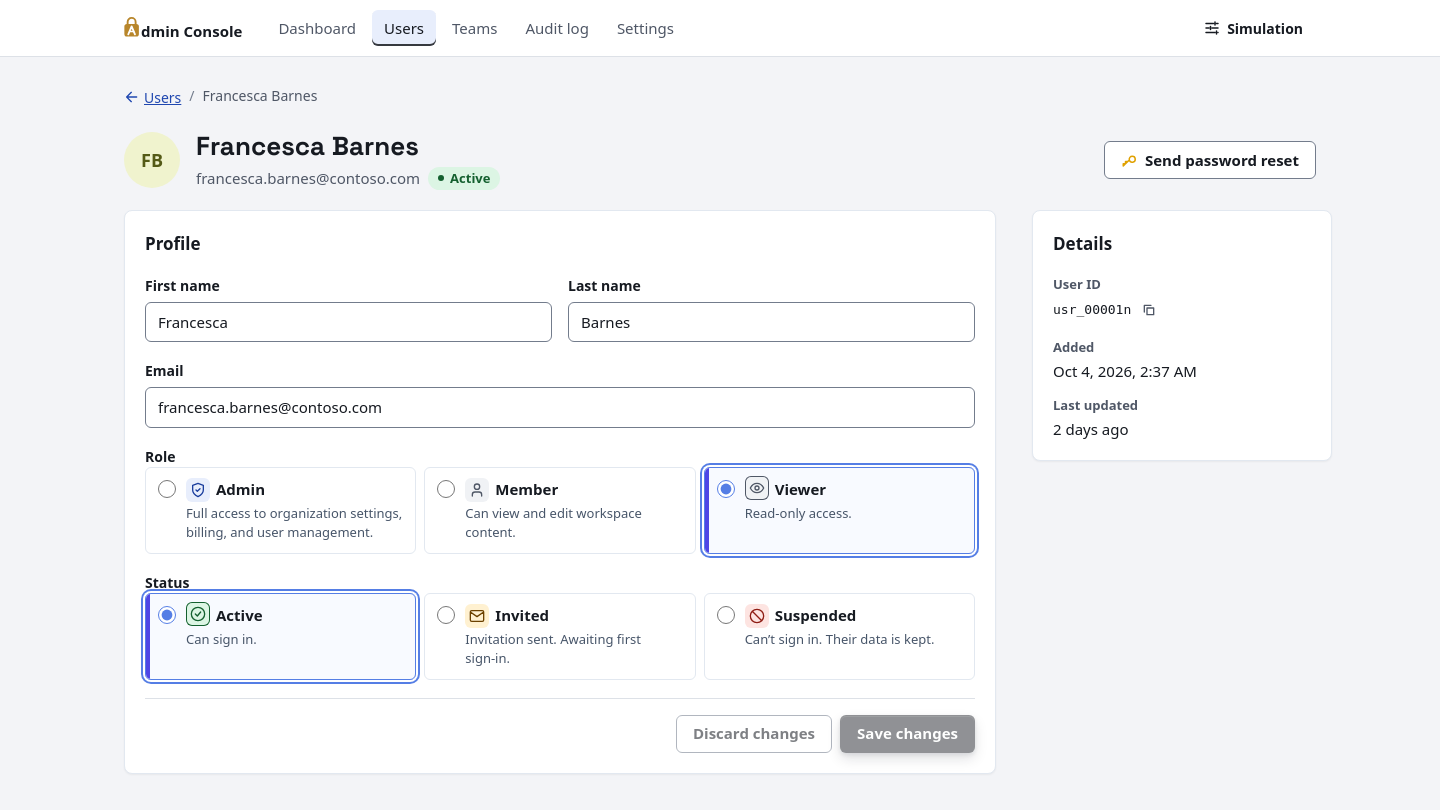
User details › saves edits with If-Match and confirms
Replace the text in the field labelled "Last name" with "Updated" at (772, 322), box x1=568 y1=302 x2=975 y2=342
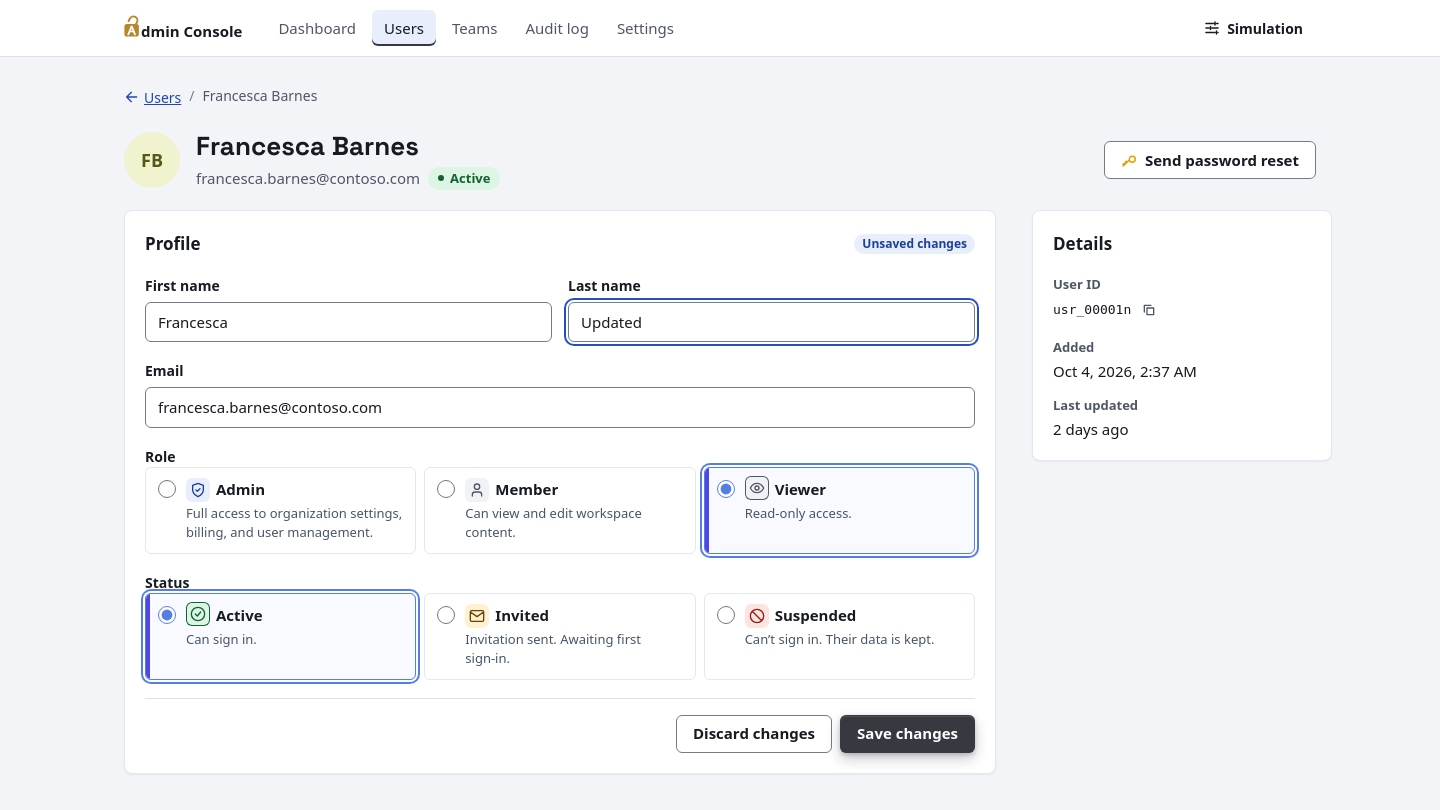
Expected: the text "Unsaved changes" is shown, x1=854 y1=234 x2=975 y2=254
Click the button "Save changes" at (908, 734), box x1=840 y1=714 x2=975 y2=752
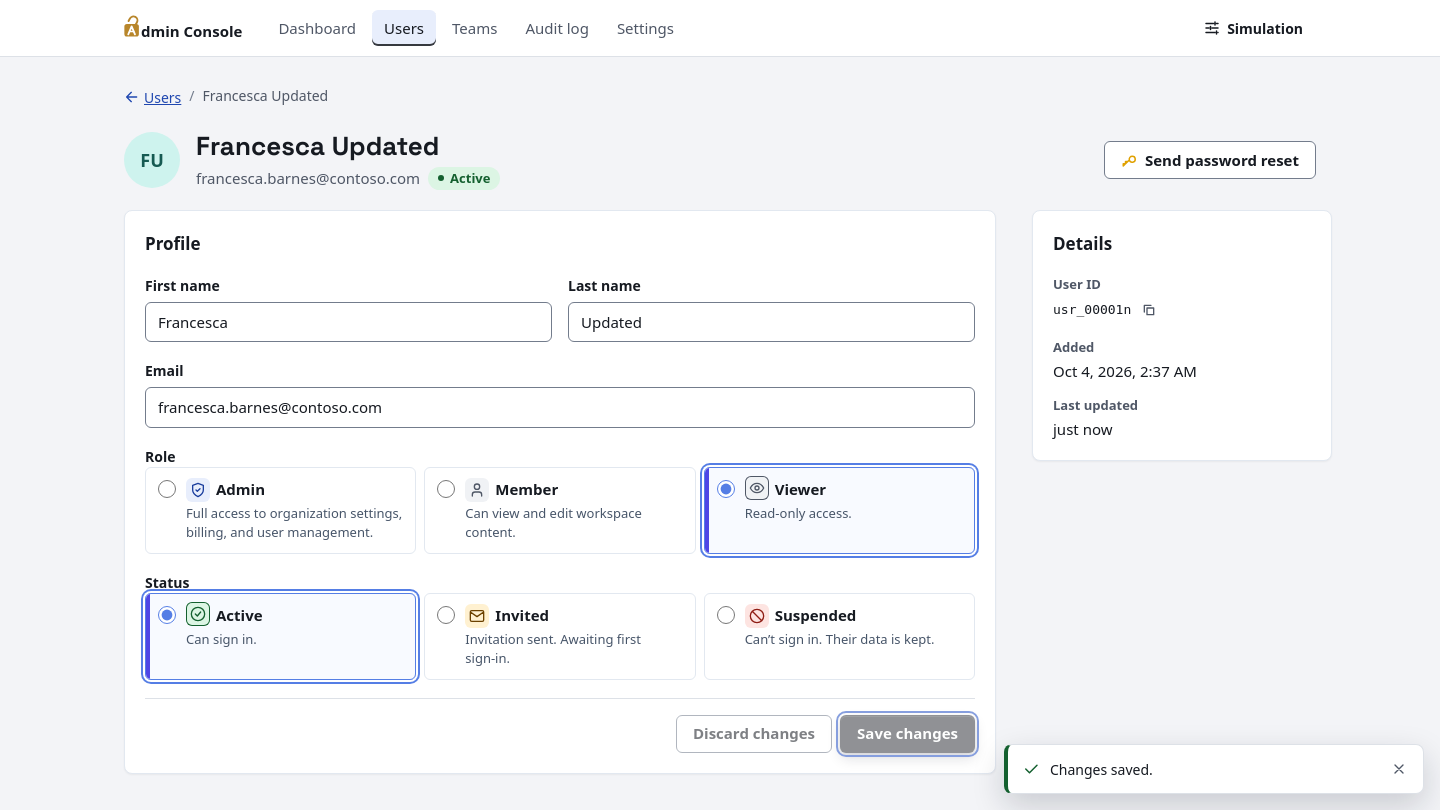
Expected: the text "Changes saved." is shown, x1=1050 y1=760 x2=1153 y2=778
Expected: the text "Unsaved changes" is gone
